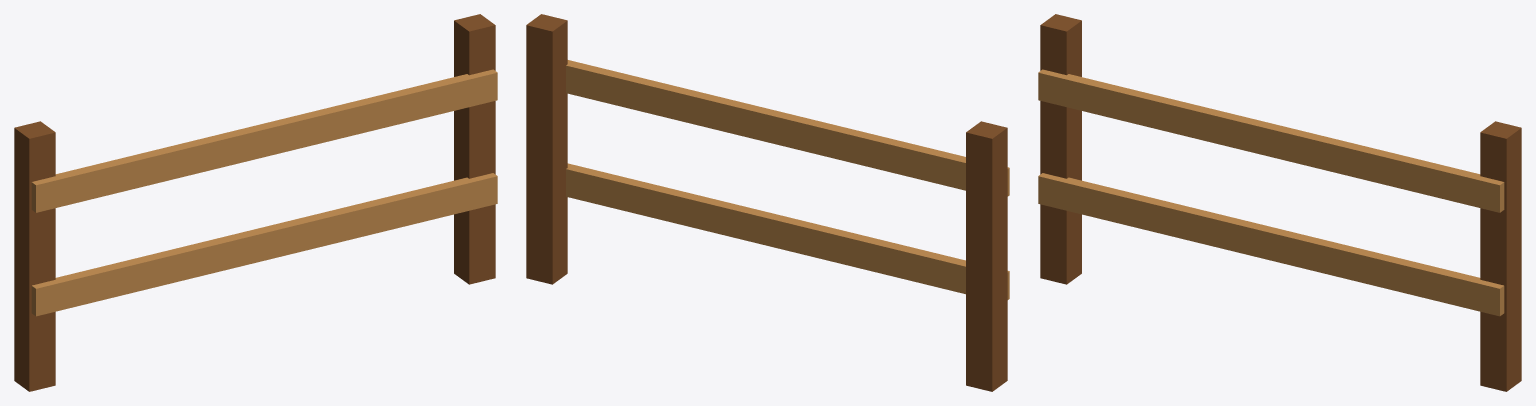
The model's file is fence_section.glb.
3 views of the same model, side by side, from view 1: azimuth 30°, elevation 25°; view 2: azimuth 150°, elevation 25°; view 3: azimuth 330°, elevation 25° (orthographic).
Visible parts, largest first — view 1: fence_section; view 2: fence_section; view 3: fence_section.
Part boxes in pixels (bbox=[...]): fence_section: bbox=[14, 14, 497, 391]; fence_section: bbox=[526, 14, 1009, 391]; fence_section: bbox=[1038, 14, 1521, 391].
Size of the model in its own units: 2.12 by 1.1 by 0.155.
